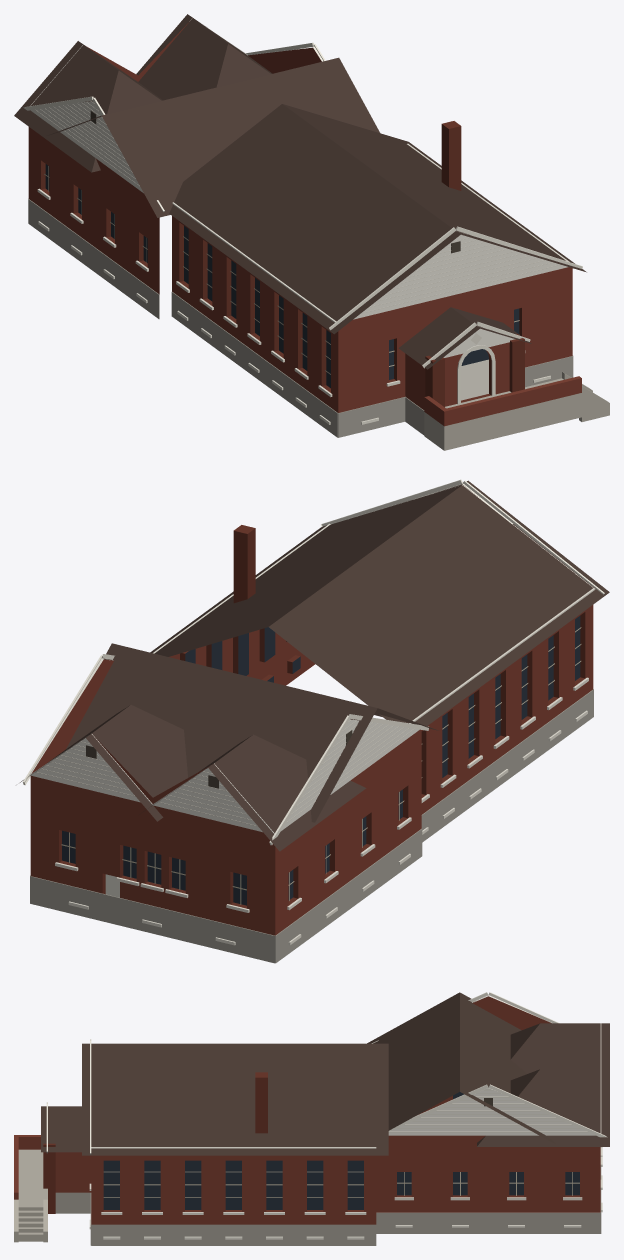
Rendered from ch-east-end-methodist-1961.glb.
The picture shows the model from 3 angles, top to bottom: view 1: azimuth 30°, elevation 25°; view 2: azimuth 150°, elevation 25°; view 3: azimuth 270°, elevation 25°; orthographic projection. The views are drawn at different scales.
Parts seen in each view (by area): view 1: ch_roof, ch_brick, ch_siding, ch_base, ch_brick2, ch_trim, ch_conc, ch_glass, ch_trc, ch_door; view 2: ch_roof, ch_brick, ch_base, ch_siding, ch_brick2, ch_trim, ch_glass, ch_trc, ch_lead; view 3: ch_roof, ch_brick, ch_base, ch_glass, ch_siding, ch_trim, ch_conc, ch_trc, ch_brick2, ch_lead.
Boxes of the visible parts, x1=… form: ch_roof: x1=14, y1=14, x2=586, y2=369; ch_brick: x1=28, y1=18, x2=581, y2=426; ch_siding: x1=30, y1=18, x2=567, y2=357; ch_base: x1=28, y1=199, x2=573, y2=437; ch_brick2: x1=41, y1=121, x2=524, y2=407; ch_trim: x1=23, y1=42, x2=582, y2=424; ch_conc: x1=424, y1=372, x2=609, y2=450; ch_glass: x1=45, y1=164, x2=519, y2=388; ch_trc: x1=35, y1=51, x2=560, y2=344; ch_door: x1=461, y1=361, x2=488, y2=400; ch_roof: x1=20, y1=480, x2=609, y2=851; ch_brick: x1=30, y1=605, x2=593, y2=935; ch_base: x1=30, y1=689, x2=593, y2=963; ch_siding: x1=29, y1=485, x2=593, y2=833; ch_brick2: x1=59, y1=525, x2=585, y2=908; ch_trim: x1=23, y1=479, x2=604, y2=945; ch_glass: x1=62, y1=616, x2=580, y2=905; ch_trc: x1=36, y1=501, x2=576, y2=826; ch_lead: x1=61, y1=627, x2=581, y2=904; ch_roof: x1=41, y1=992, x2=609, y2=1155; ch_brick: x1=14, y1=996, x2=600, y2=1224; ch_base: x1=55, y1=1167, x2=601, y2=1245; ch_glass: x1=103, y1=1092, x2=579, y2=1209; ch_siding: x1=388, y1=996, x2=601, y2=1135; ch_trim: x1=46, y1=992, x2=607, y2=1239; ch_conc: x1=14, y1=1149, x2=47, y2=1242; ch_trc: x1=389, y1=1089, x2=587, y2=1132; ch_brick2: x1=43, y1=1072, x2=579, y2=1213; ch_lead: x1=103, y1=1171, x2=579, y2=1197.
Size of the model in its own units: 17 by 11.51 by 38.5.
